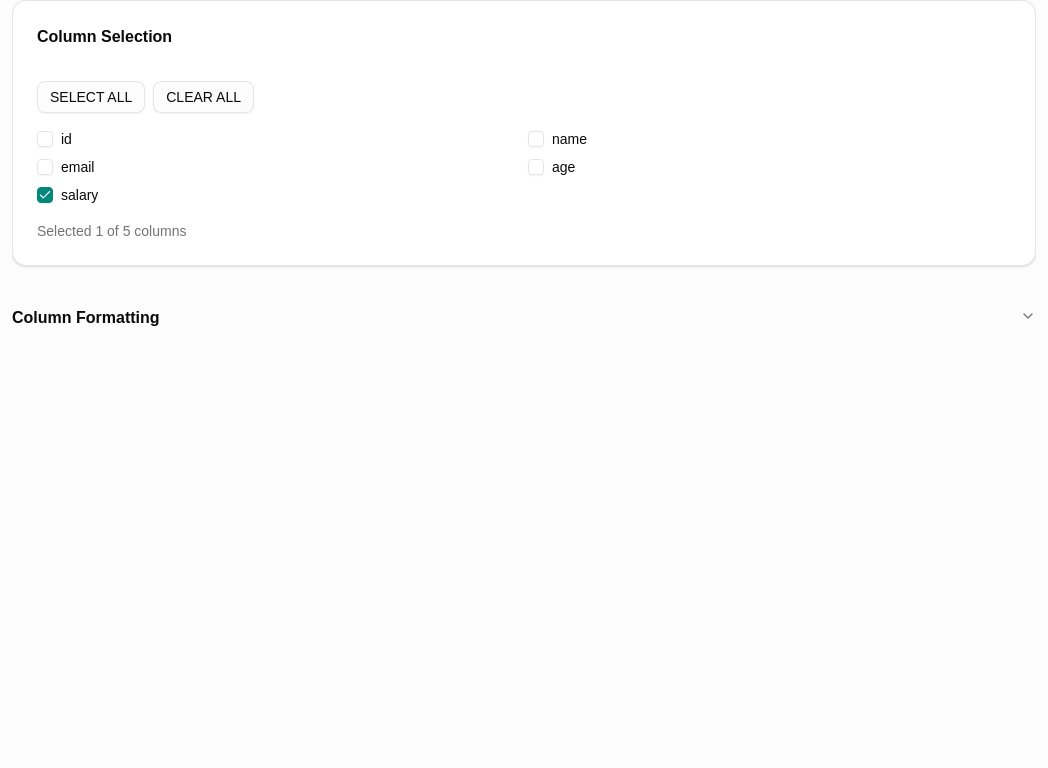
Test: TableConfiguration › Format Type and Precision Configuration › should show precision input for number format: {"salary":{"type":"number","precision":2}}
This screenshot has width=1048, height=768.
Click the button "Column Formatting" at (86, 318), box [12, 290, 1036, 346]
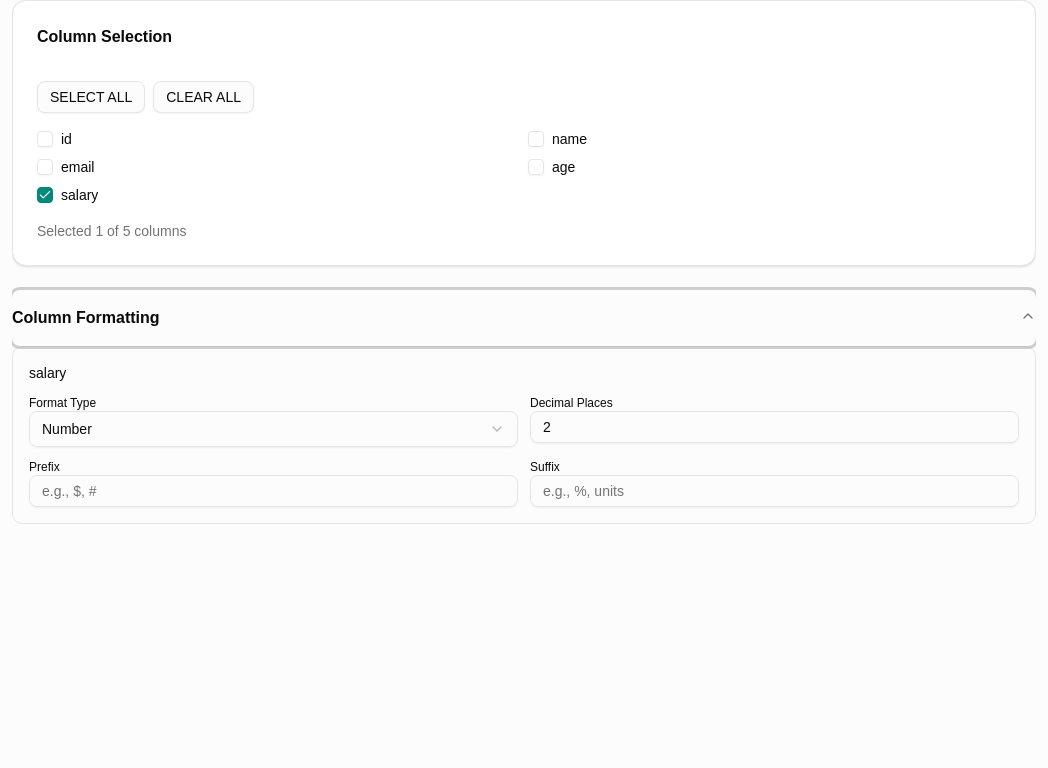
expect the text "Decimal Places" is shown: met, box [530, 396, 613, 410]
